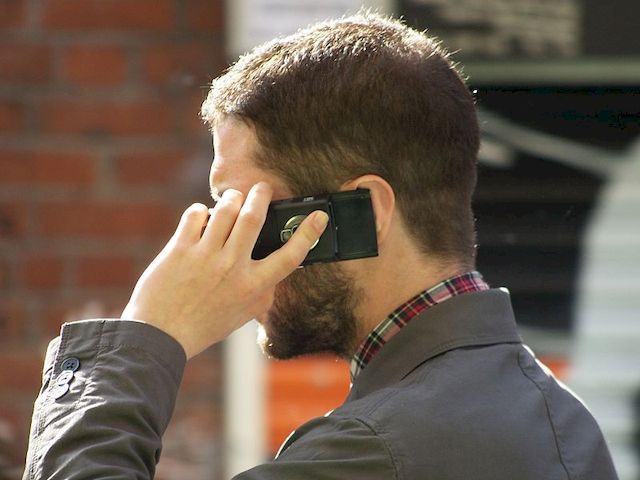phone: (201, 199, 391, 270)
talk: (165, 169, 405, 360)
